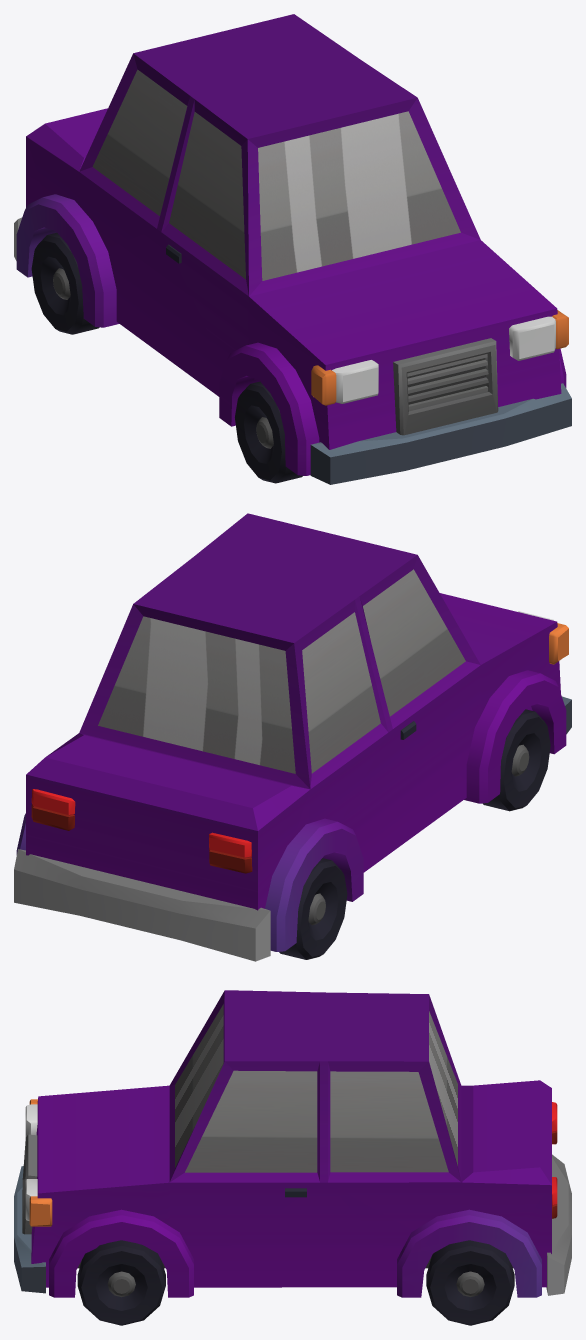
The model's file is Car_2_1.fbx.
3 renders of one model, top to bottom at view 1: azimuth 30°, elevation 25°; view 2: azimuth 150°, elevation 25°; view 3: azimuth 270°, elevation 25°, orthographic. The views are drawn at different scales.
Parts seen in each view (by area): view 1: Car_2_1, W_BR, W_FR; view 2: Car_2_1, W_FR, W_BR; view 3: Car_2_1, W_BL, W_FL.
Part boxes in pixels (box(x1,y1,x2,y2)): Car_2_1: box(14, 14, 571, 484); W_BR: box(31, 232, 99, 334); W_FR: box(235, 381, 302, 483); Car_2_1: box(14, 513, 571, 961); W_FR: box(482, 709, 550, 811); W_BR: box(279, 858, 347, 959); Car_2_1: box(14, 990, 571, 1297); W_BL: box(426, 1240, 514, 1325); W_FL: box(77, 1240, 165, 1325).
Size of the model in its own units: 109 by 111 by 228.
